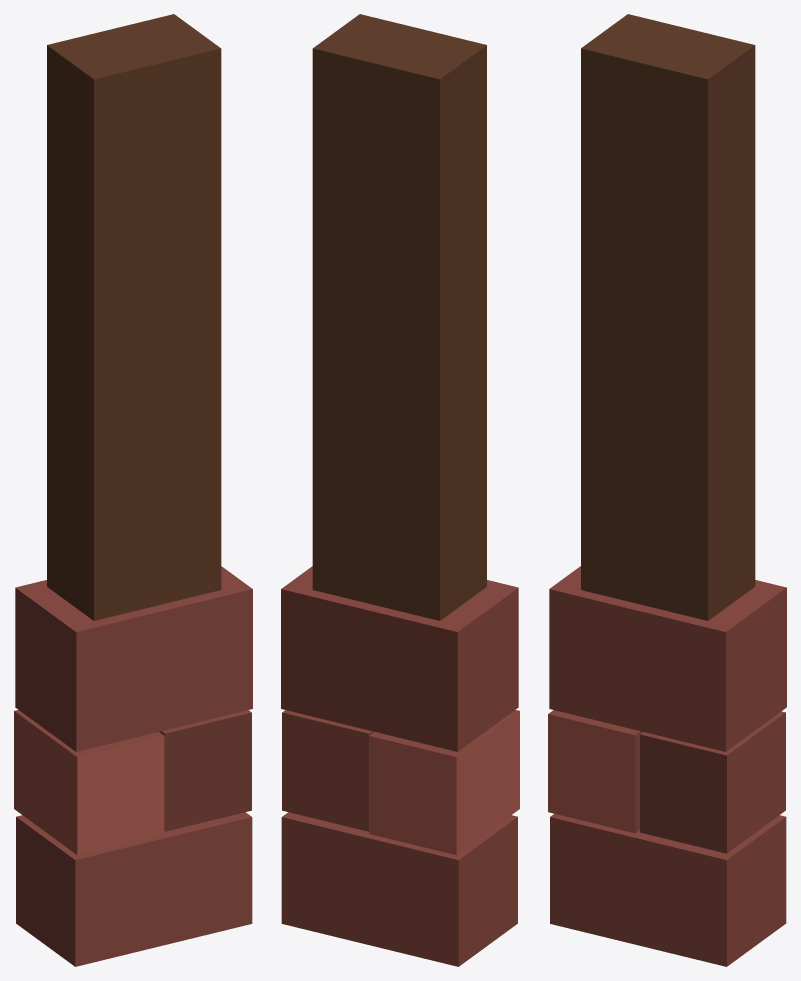
The model's file is Muro_4_LV_3.fbx.
The picture shows the model from 3 angles, left to right: view 1: azimuth 30°, elevation 25°; view 2: azimuth 150°, elevation 25°; view 3: azimuth 330°, elevation 25°; orthographic projection.
Visible parts, largest first — view 1: Wall.008; view 2: Wall.008; view 3: Wall.008.
Part boxes in pixels (bbox=[...]): Wall.008: bbox=[14, 14, 252, 966]; Wall.008: bbox=[281, 14, 519, 966]; Wall.008: bbox=[548, 14, 786, 966].
Bounding box in the file's own units: 49.03 × 232 × 30.37.
